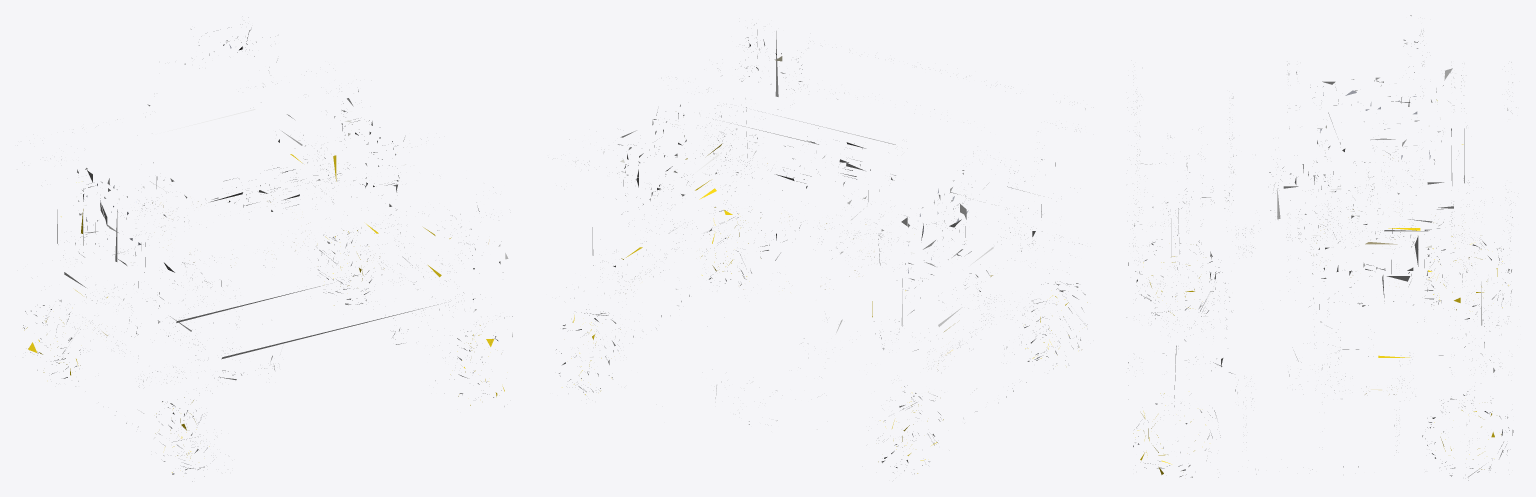
The model's file is Assembly 1 - Decode-fresh-medium.glb.
The picture shows the model from 3 angles, left to right: view 1: azimuth 30°, elevation 25°; view 2: azimuth 150°, elevation 25°; view 3: azimuth 270°, elevation 25°; orthographic projection. The views are drawn at different scales.
Visible parts, largest first — view 1: world; view 2: world; view 3: world.
Boxes of the visible parts, x1,y1,x2,y2 form: world: (22, 16, 512, 481); world: (552, 19, 1087, 473); world: (1126, 15, 1519, 480).
Bounding box in the file's own units: 0.4411 × 0.4271 × 0.4133.
